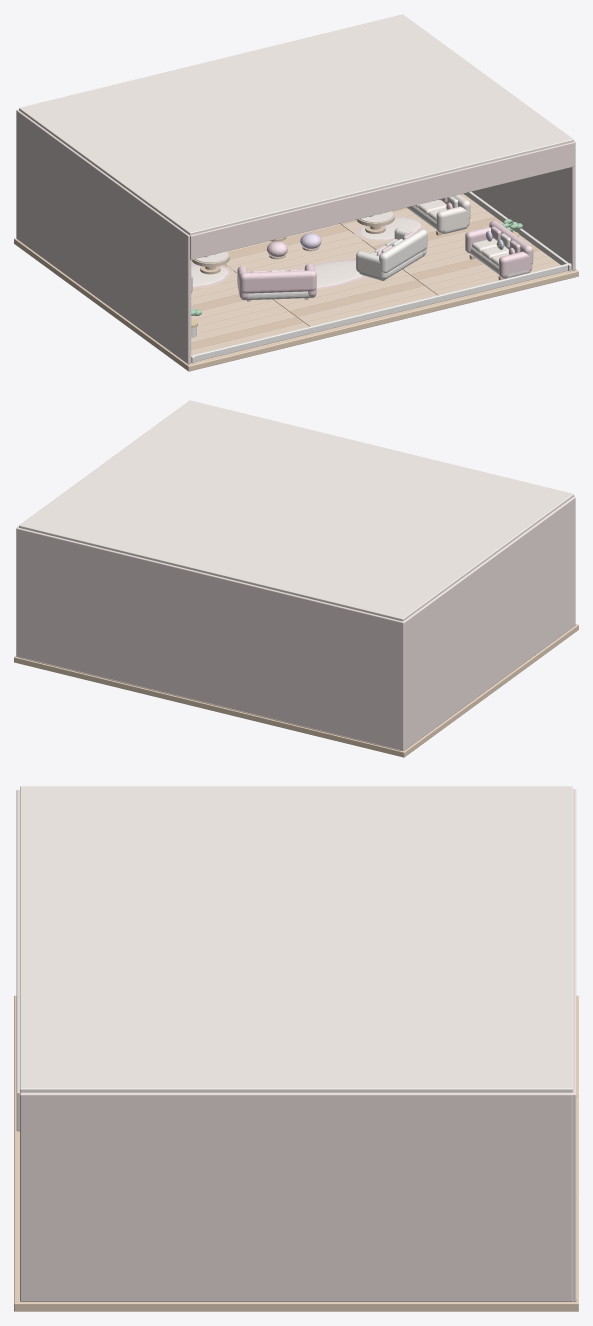
The model's file is music_box_room_optimized.glb.
The picture shows the model from 3 angles, top to bottom: view 1: azimuth 30°, elevation 25°; view 2: azimuth 150°, elevation 25°; view 3: azimuth 270°, elevation 25°; orthographic projection. The views are drawn at different scales.
Parts seen in each view (by area): view 1: ceiling_surface_22, static_group_23, static_group_6, static_group_7, static_group_24, static_group_1, static_group_2, static_group_4; view 2: static_group_23, ceiling_surface_22, static_group_24; view 3: ceiling_surface_22, static_group_23, static_group_24.
Part boxes in pixels (left/top/right/bottom): ceiling_surface_22: left=19, top=14, right=573, bottom=235; static_group_23: left=16, top=109, right=575, bottom=364; static_group_6: left=191, top=195, right=560, bottom=354; static_group_7: left=191, top=191, right=571, bottom=363; static_group_24: left=14, top=238, right=578, bottom=371; static_group_1: left=191, top=197, right=533, bottom=298; static_group_2: left=191, top=193, right=539, bottom=349; static_group_4: left=191, top=194, right=508, bottom=287; static_group_23: left=16, top=495, right=575, bottom=750; ceiling_surface_22: left=19, top=400, right=573, bottom=621; static_group_24: left=14, top=624, right=578, bottom=757; ceiling_surface_22: left=20, top=786, right=572, bottom=1092; static_group_23: left=16, top=789, right=576, bottom=1301; static_group_24: left=14, top=995, right=578, bottom=1311.
Size of what is drawn, in the model's own units: 18.7 by 6.26 by 14.5.
